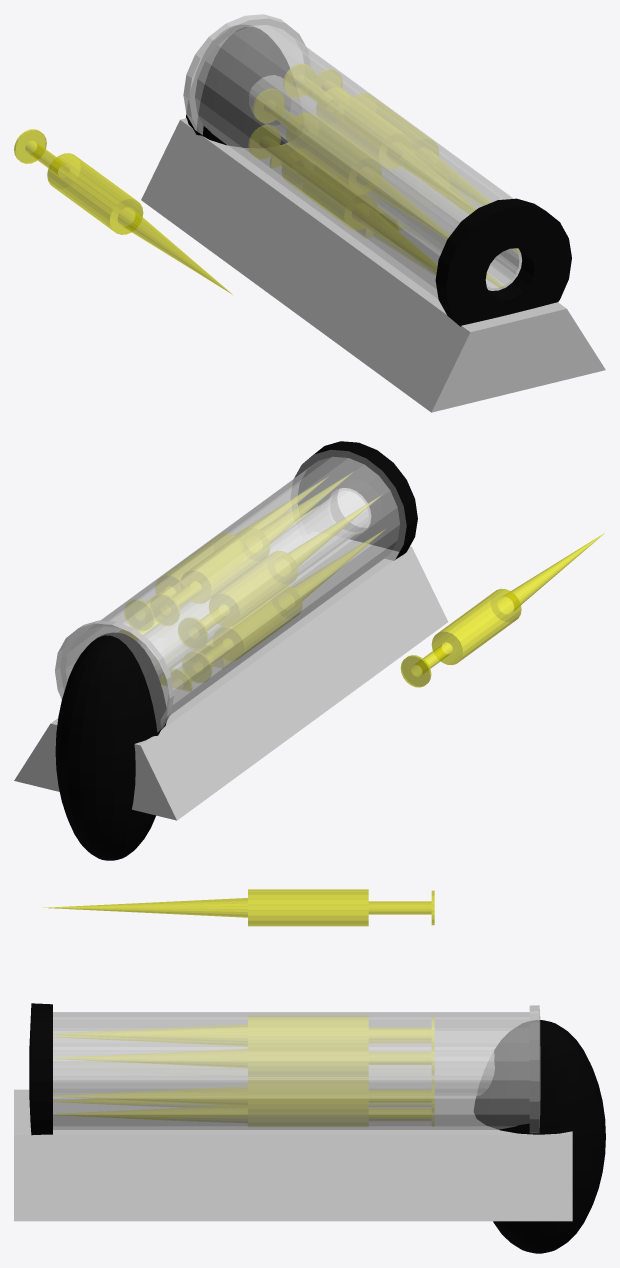
Rendered from NeedleCannon.fbx.
3 views of the same model, one above another, from view 1: azimuth 30°, elevation 25°; view 2: azimuth 150°, elevation 25°; view 3: azimuth 270°, elevation 25° (orthographic). The views are drawn at different scales.
Parts seen in each view (by area): view 1: polySurface11, pasted__polySurface7; view 2: polySurface11, pasted__polySurface7; view 3: polySurface11, pasted__polySurface7.
Part boxes in pixels (x1,y1,x2,y2): polySurface11: [141, 14, 605, 412]; pasted__polySurface7: [14, 129, 232, 294]; polySurface11: [14, 441, 448, 860]; pasted__polySurface7: [400, 533, 604, 687]; polySurface11: [14, 1003, 605, 1253]; pasted__polySurface7: [42, 889, 434, 926].
Bounding box in the file's own units: 19.78 × 12.69 × 28.14.
